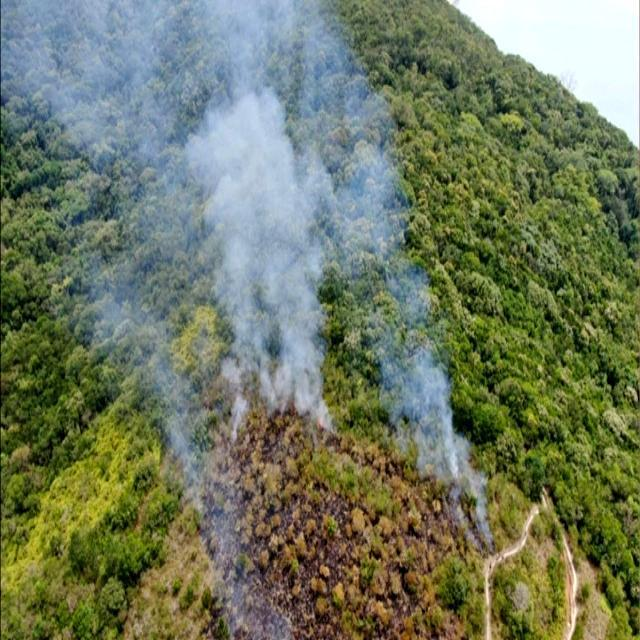Smoke: (66, 0, 402, 405), (389, 288, 476, 514)
